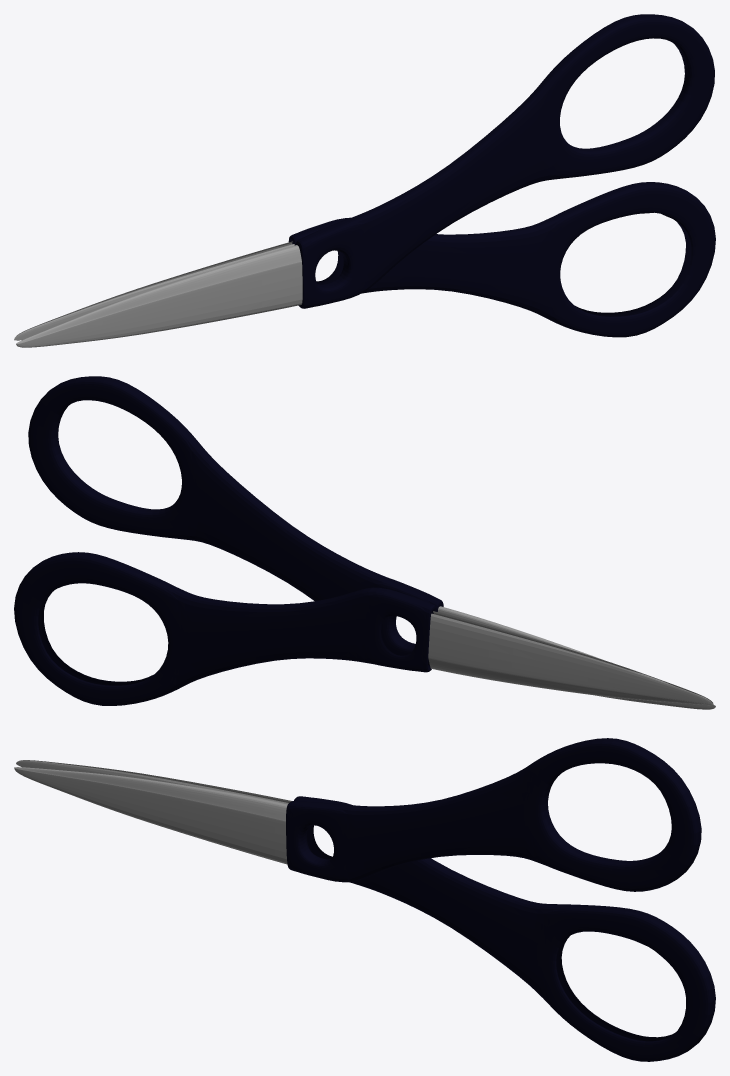
The model's file is scissors_Base.FBX.
3 renders of one model, top to bottom at view 1: azimuth 30°, elevation 25°; view 2: azimuth 150°, elevation 25°; view 3: azimuth 330°, elevation 25°, orthographic.
Visible parts, largest first — view 1: UpperH, DownH, UpperC, DownC; view 2: DownH, UpperH, DownC, UpperC; view 3: UpperH, DownH, UpperC, DownC.
Part boxes in pixels (bbox=[...]): UpperH: bbox=[295, 14, 714, 308]; DownH: bbox=[288, 182, 715, 337]; UpperC: bbox=[16, 245, 302, 347]; DownC: bbox=[14, 241, 294, 340]; DownH: bbox=[14, 552, 436, 705]; UpperH: bbox=[28, 376, 443, 665]; DownC: bbox=[428, 611, 713, 705]; UpperC: bbox=[438, 606, 715, 709]; UpperH: bbox=[286, 738, 701, 891]; DownH: bbox=[294, 796, 715, 1061]; UpperC: bbox=[14, 767, 287, 864]; DownC: bbox=[16, 760, 292, 804].
Bounding box in the file's own units: 14.8 × 6.51 × 0.551.
